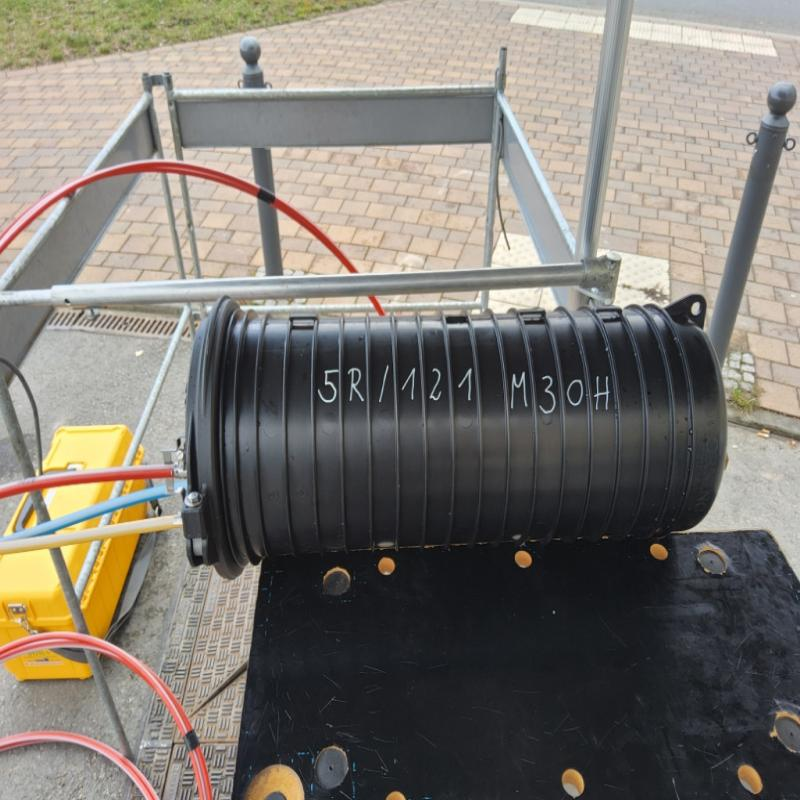NT-Muffen: (182, 296, 730, 576)
